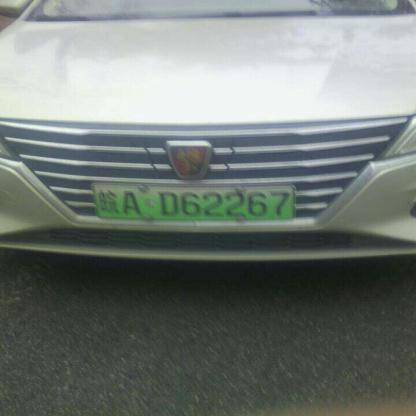lp: (93, 183, 294, 219)
